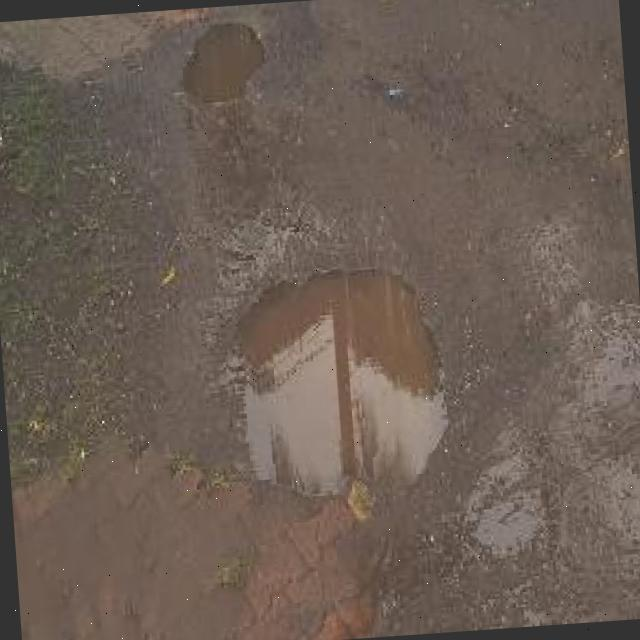stagnation: (205, 253, 468, 518), (164, 10, 278, 116)
